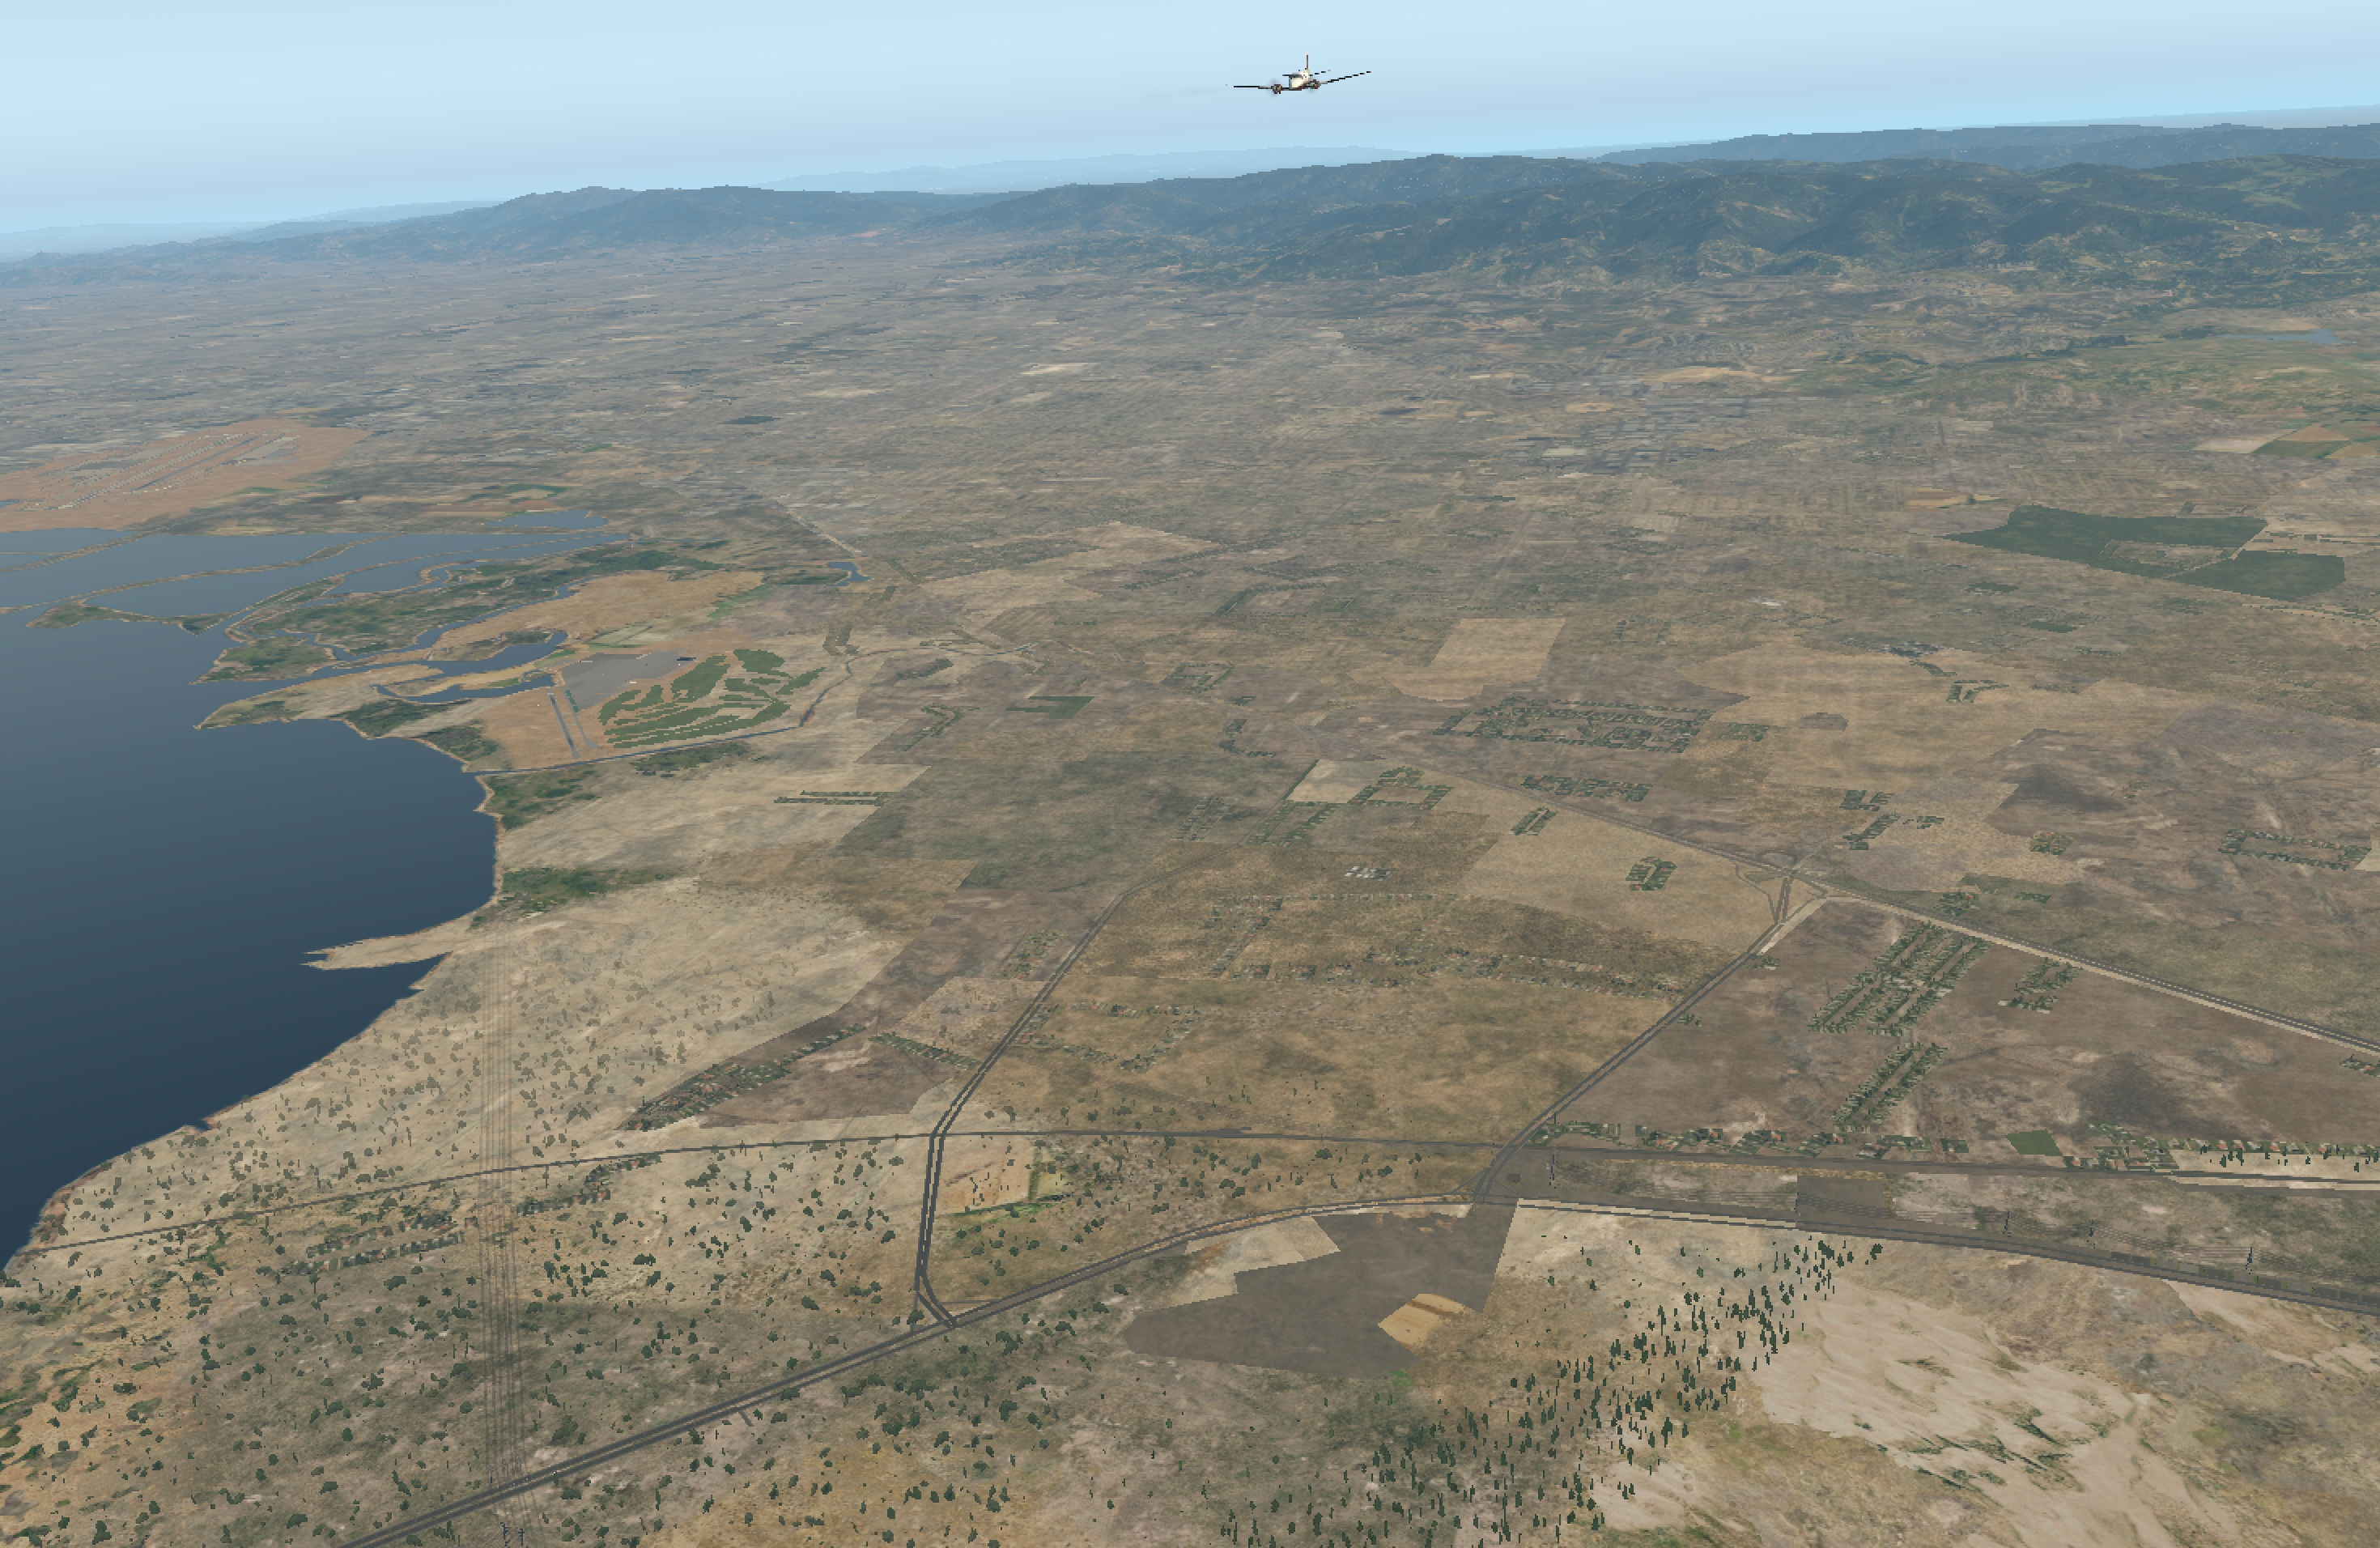aircraft: (1226, 62, 1369, 116)
